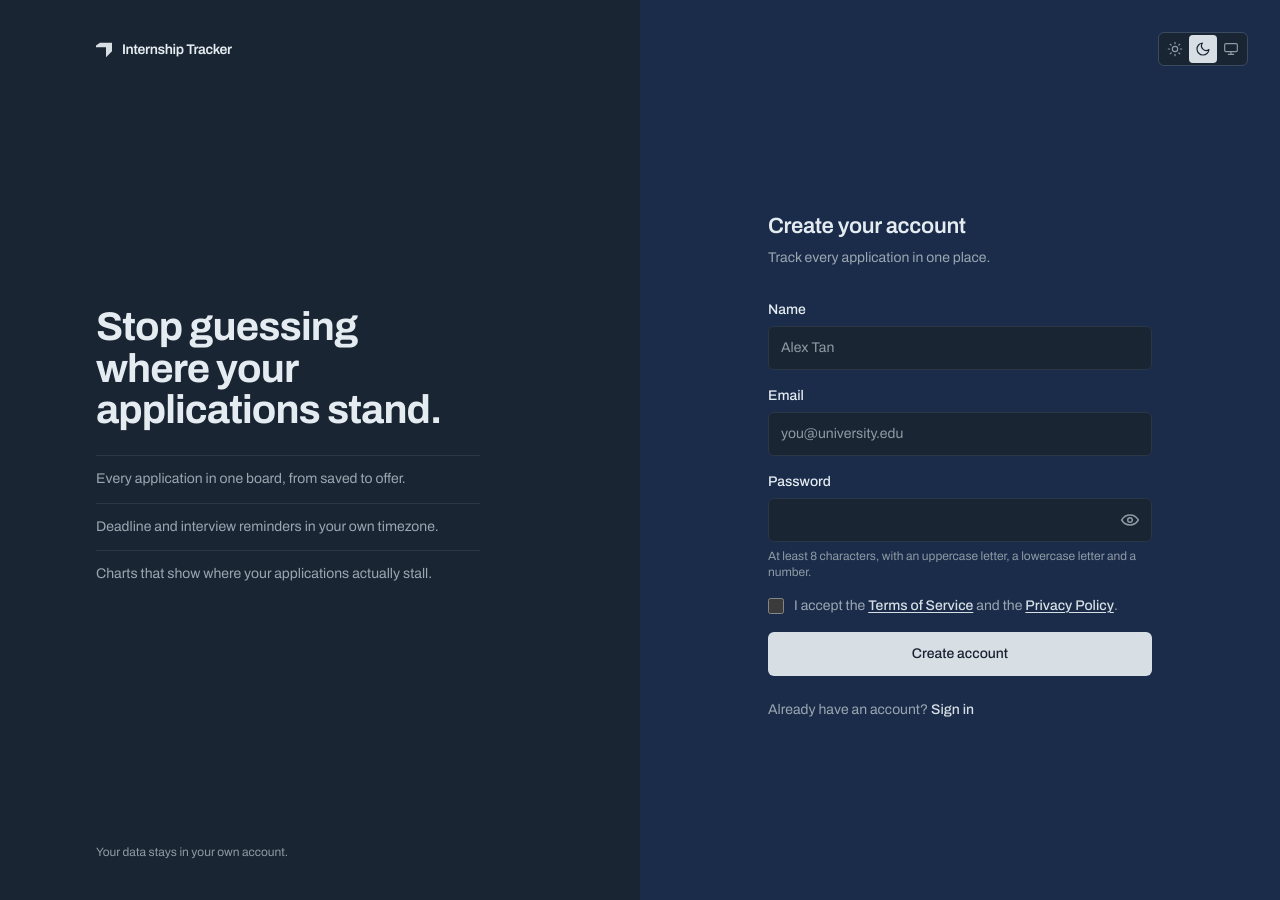
Test: RegisterForm › sends the detected timezone and the accepted terms flag
Expected: the button "Create account" is shown, [768,632,1152,676]
Type "Ada Lovelace" into the field labelled "Name" at (960, 348), box [768,326,1152,370]
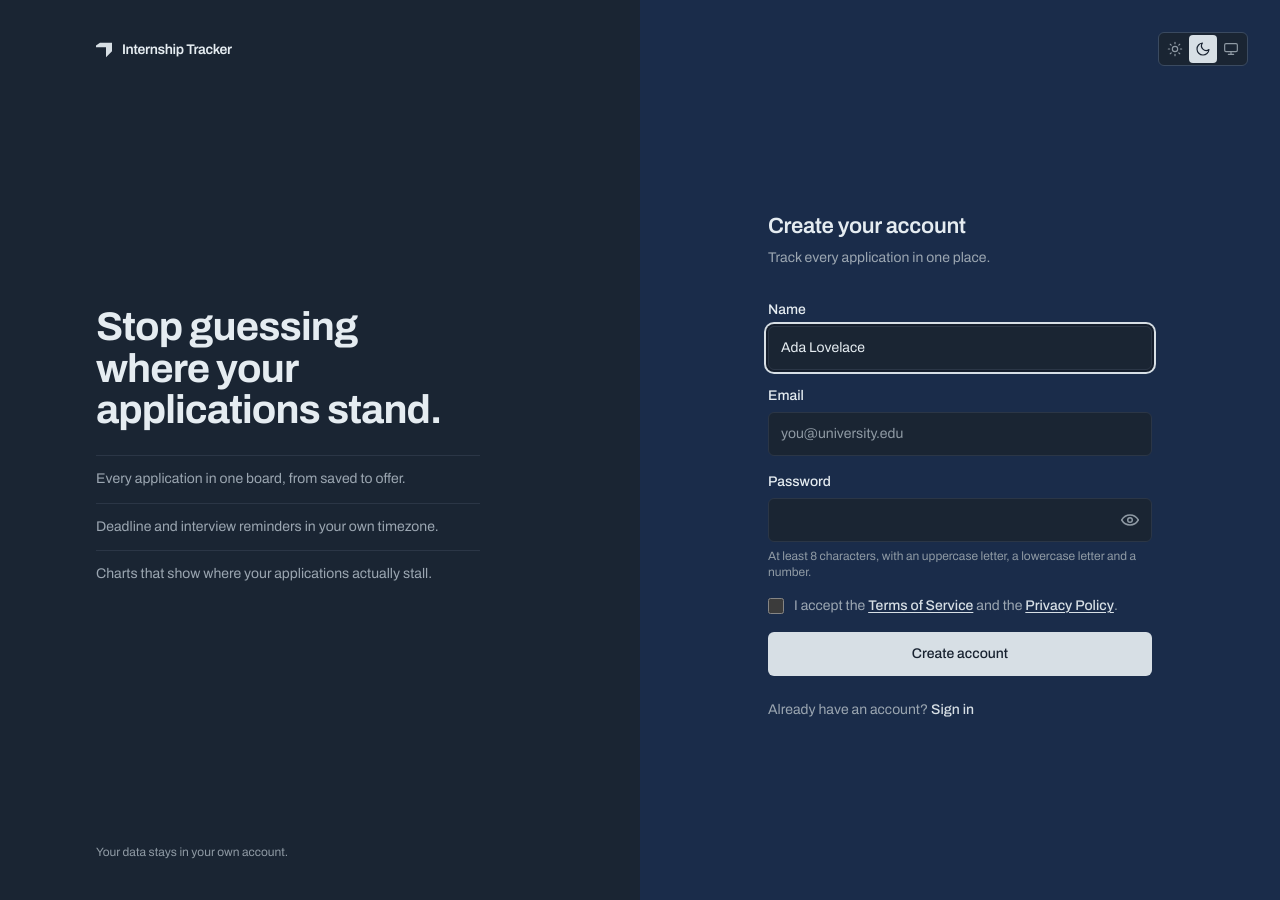
Type "ada@example.test" into the field labelled "Email" at (960, 434), box [768,412,1152,456]
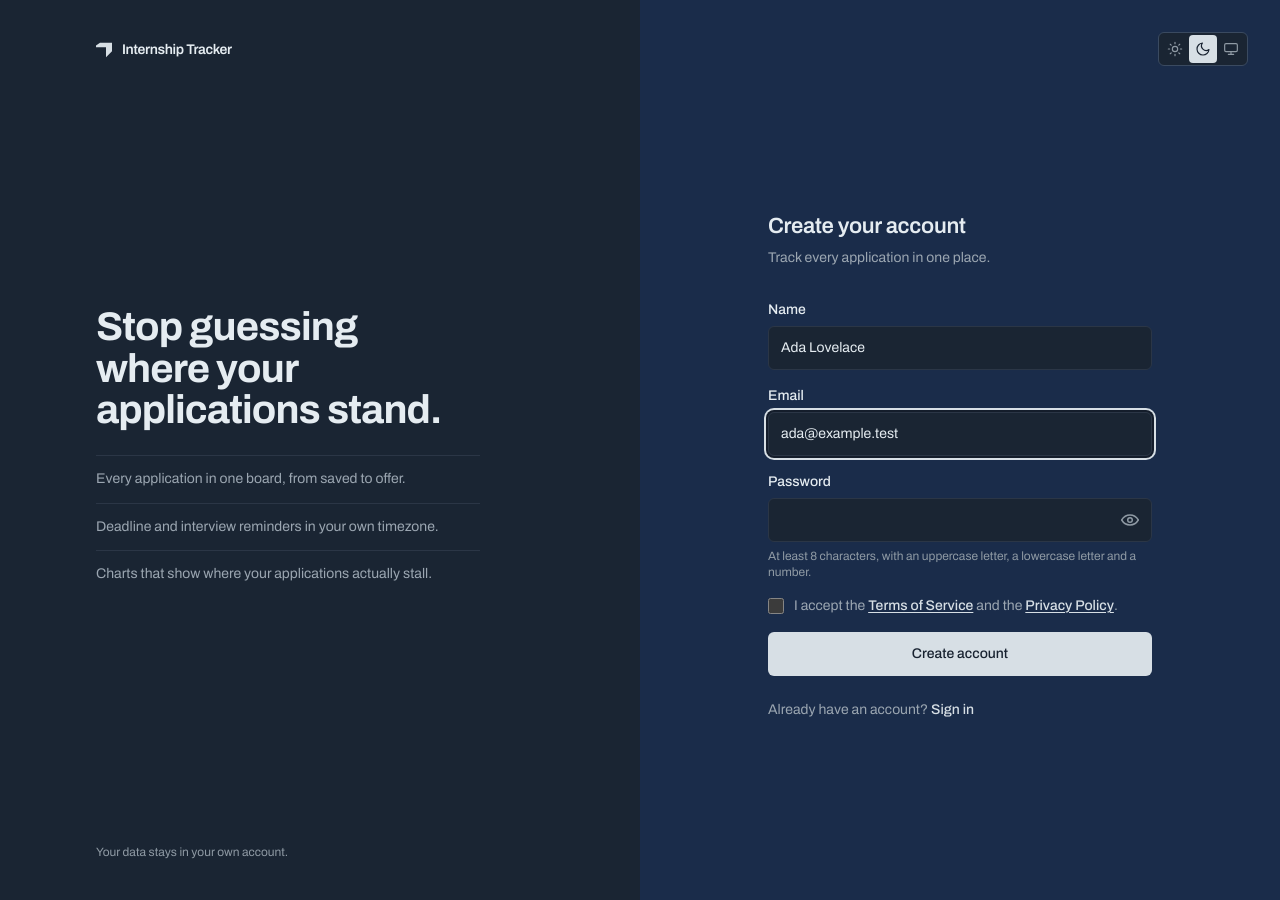
Type "Password1" into the password field labelled "Password" at (960, 520), box [768,498,1152,542]
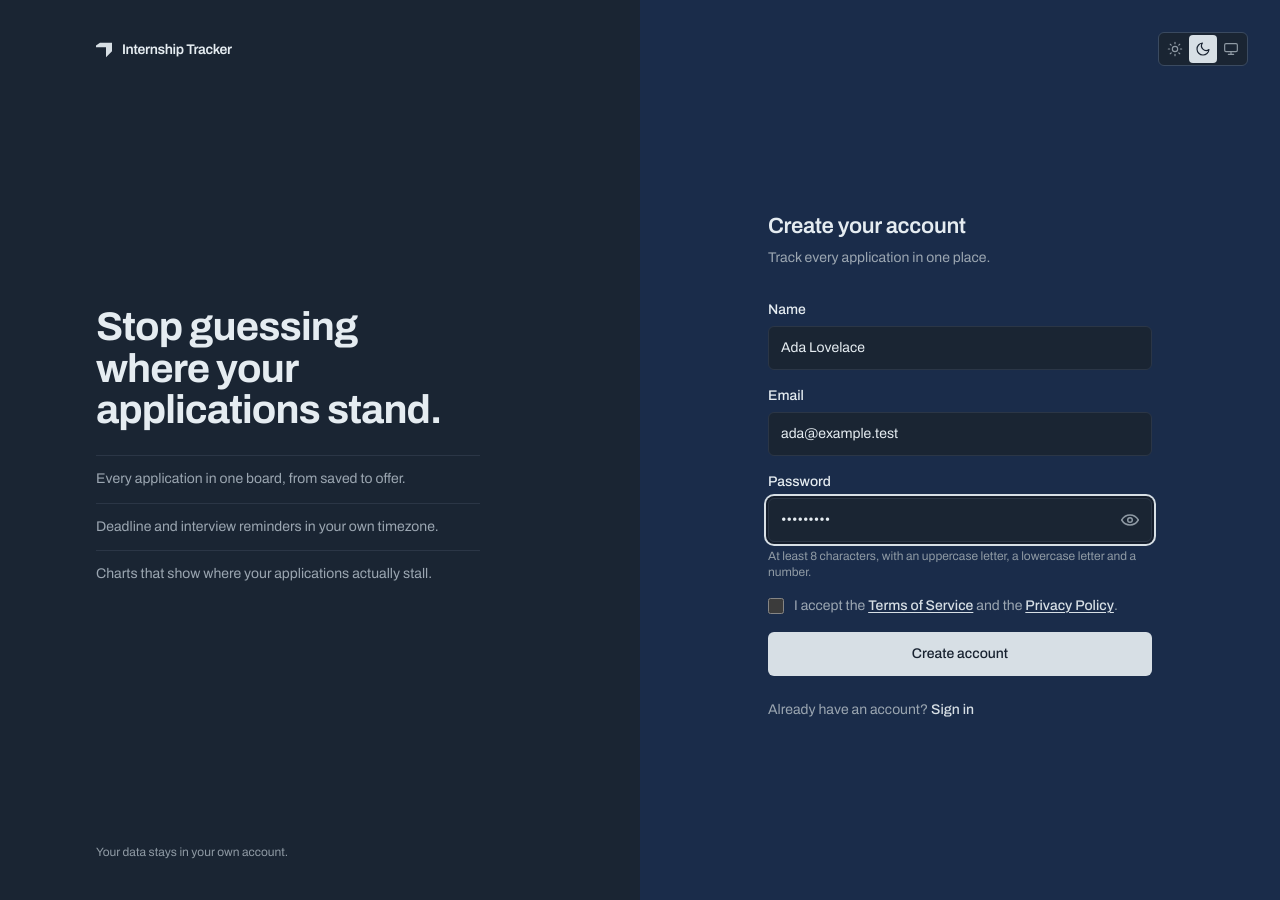
Click the checkbox at (776, 606), box [768,598,784,614]
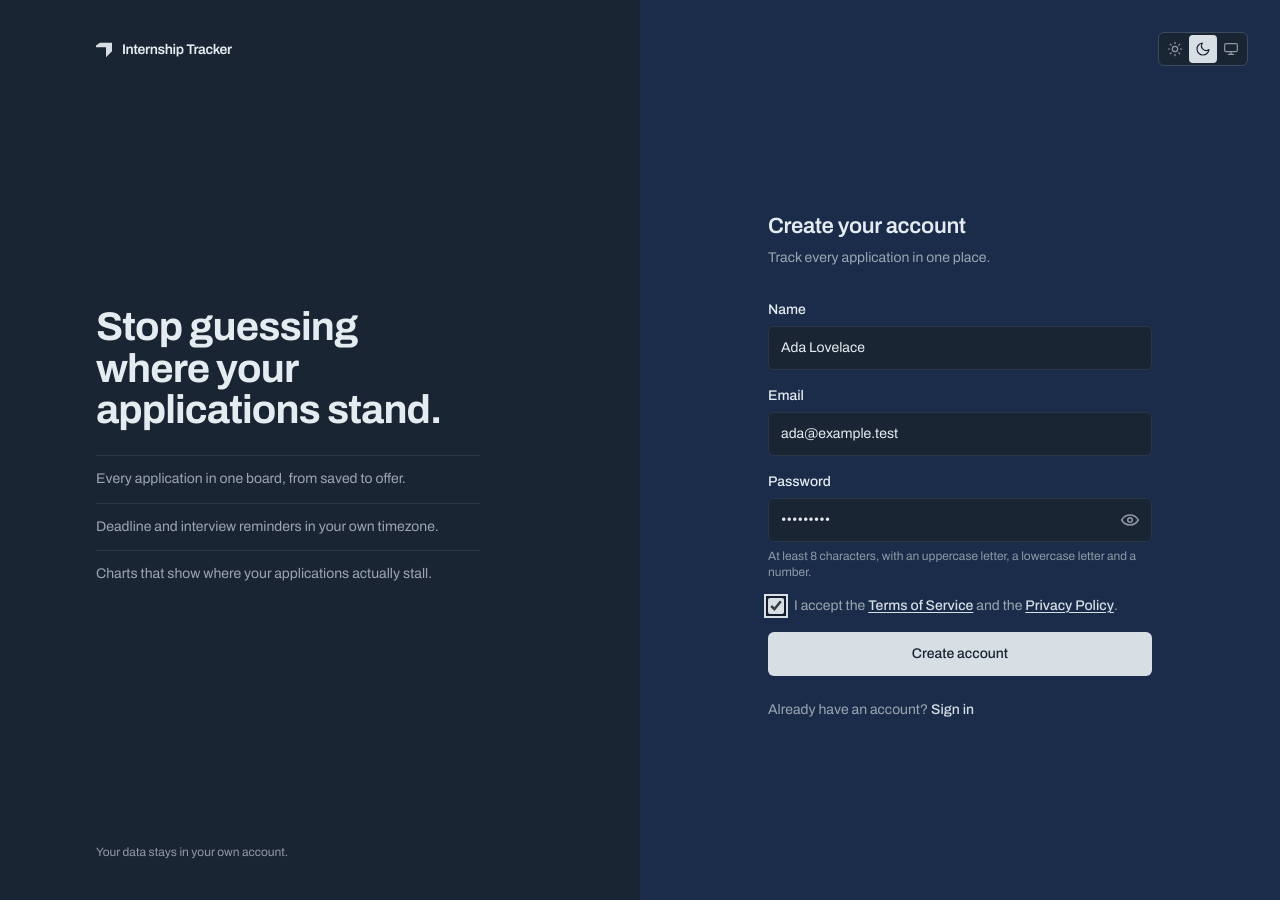
Click the button "Create account" at (960, 654), box [768,632,1152,676]
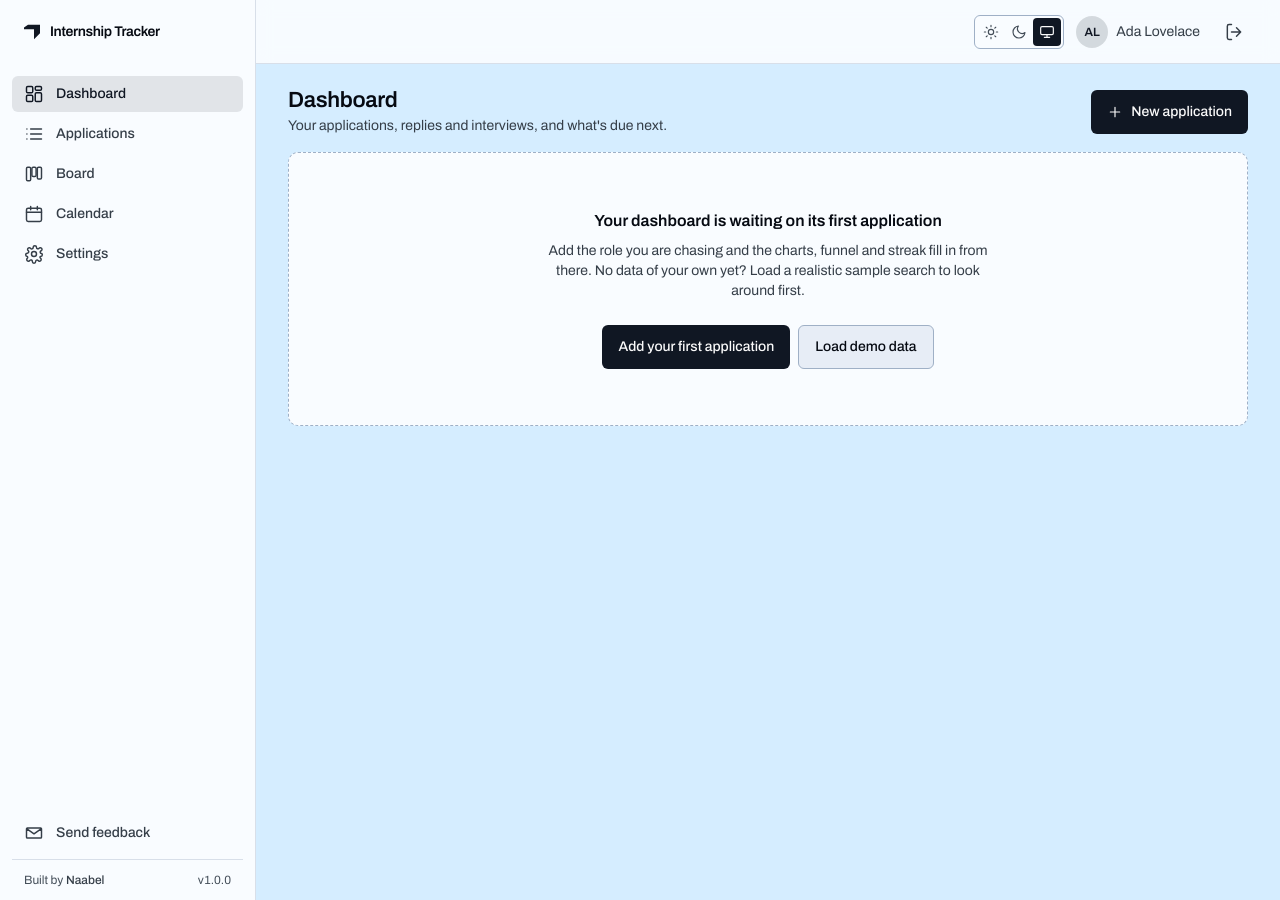
Result: the heading "Dashboard" is shown at [288,88,397,112]
